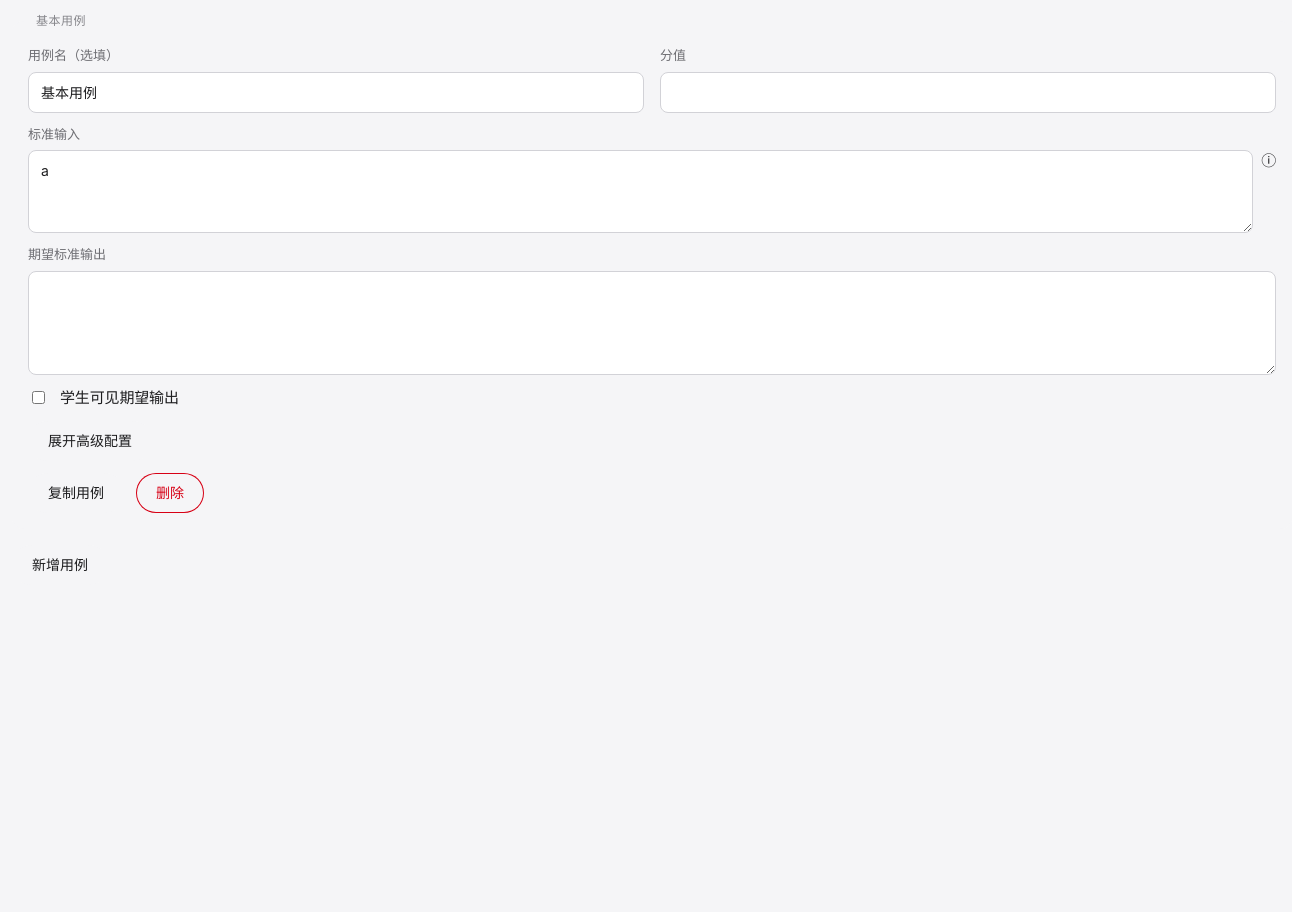
Test: 复制与排序 › 复制用例：在原卡之后插入一份完整副本
This screenshot has width=1292, height=912.
Click the button with test id "case-copy-0" at (76, 493), box [28, 473, 124, 513]
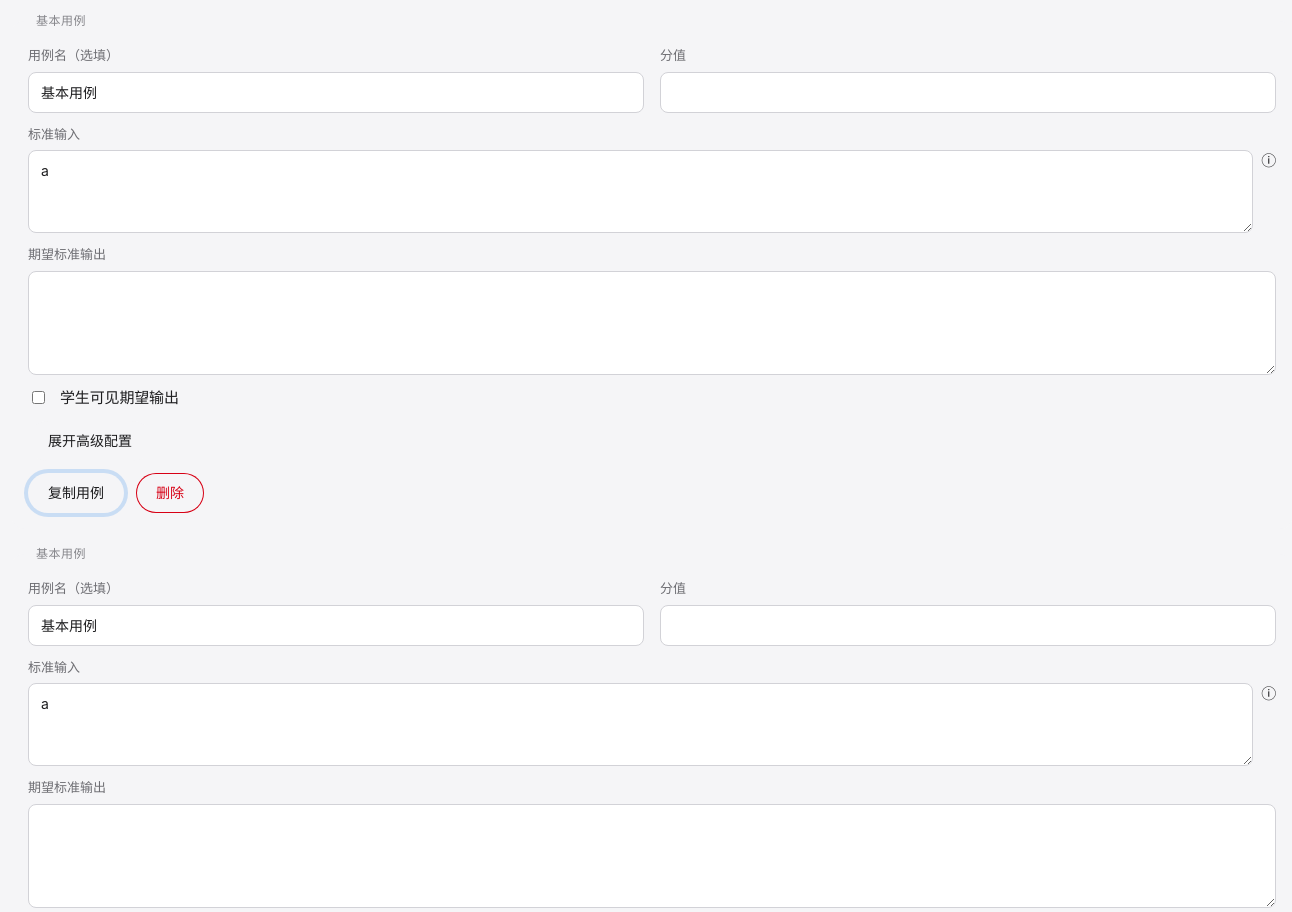
Expected: the 1st text box labelled "标准输入" holds "a ", [28, 150, 1253, 233]
Expected: the element with test id "case-1" shows "基本用例", [36, 546, 86, 561]
Expected: the 2nd text box labelled "标准输入" holds "a ", [28, 683, 1253, 766]
